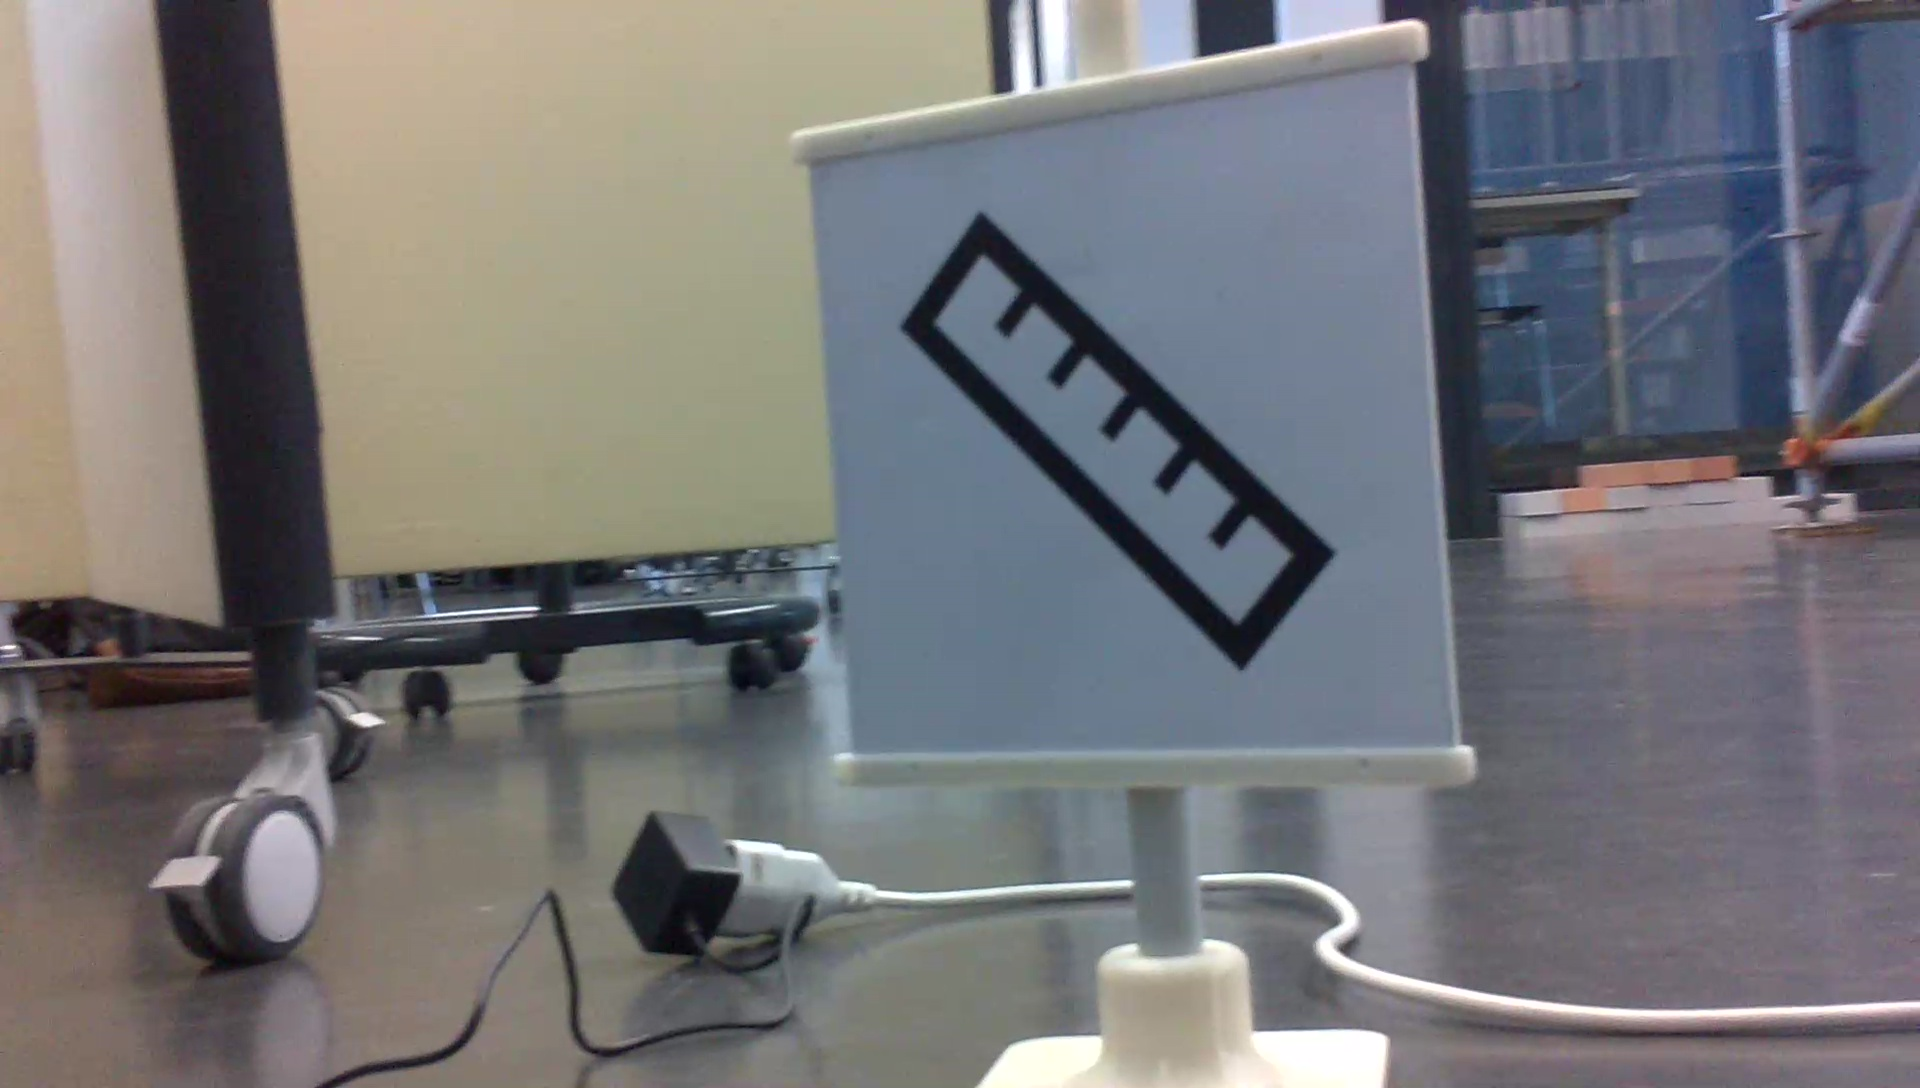ruler: (906, 196, 1352, 682)
